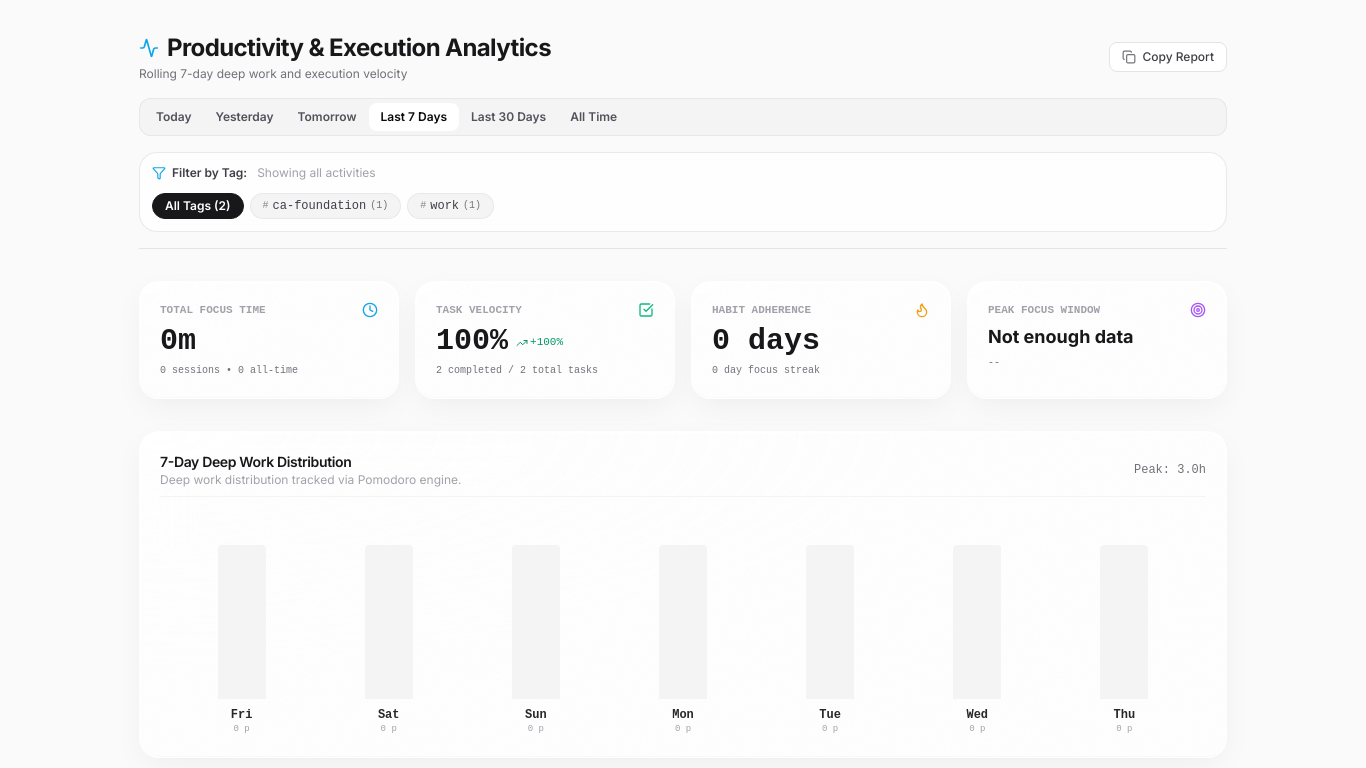
Analytics Time Horizon & Tag Filtering Engine › filters activities when clicking tag filter buttons and clears filter
Expected: the text "Filter by Tag:" is shown, [172,165,247,181]
Note: Click to filter by #ca-foundation
Click the button "# ca-foundation (1)" at (325, 206), box [250,193,401,219]
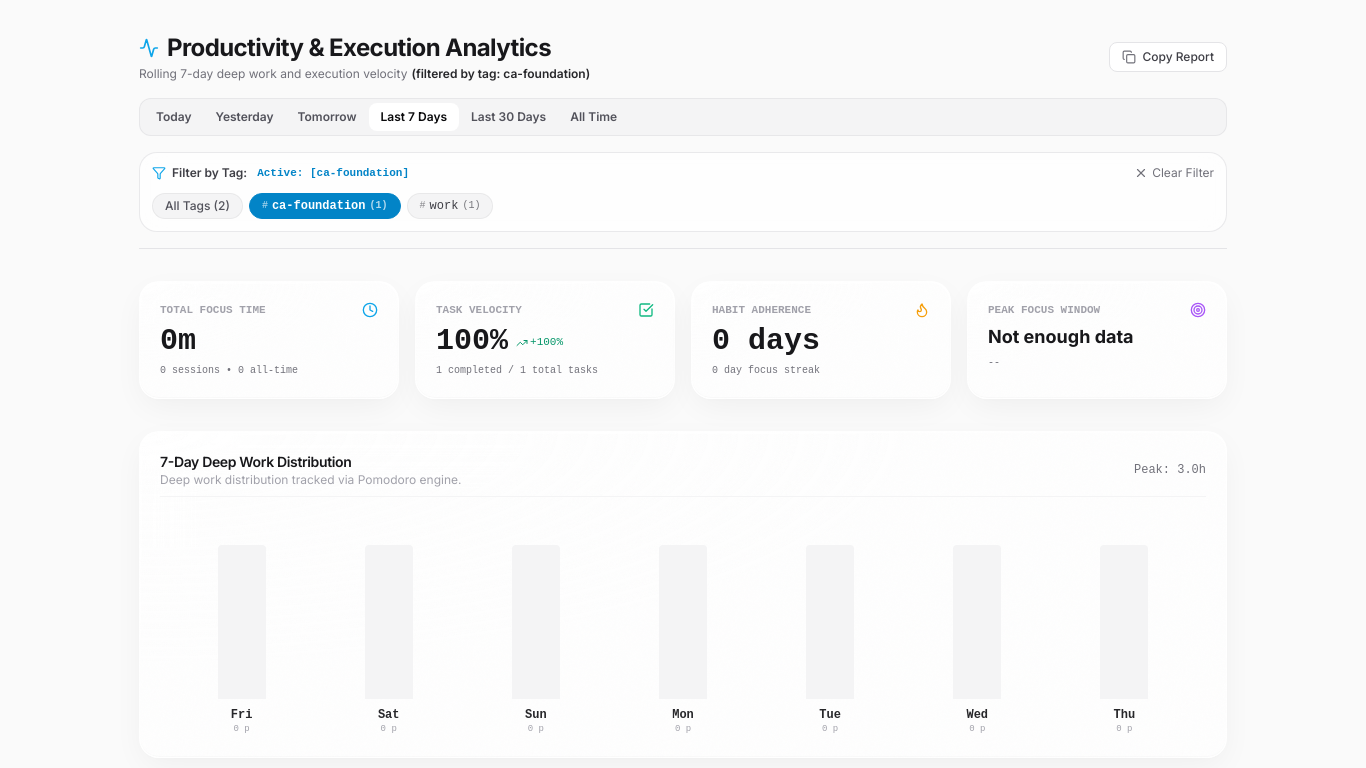
Now the text "Active: [ca-foundation]" is shown, box [257,165,409,181]
Now the text "Clear Filter" is shown, box [1152,165,1214,181]
Note: Click Clear Filter
Click the button "Clear Filter" at (1174, 173), box [1134,165,1214,181]
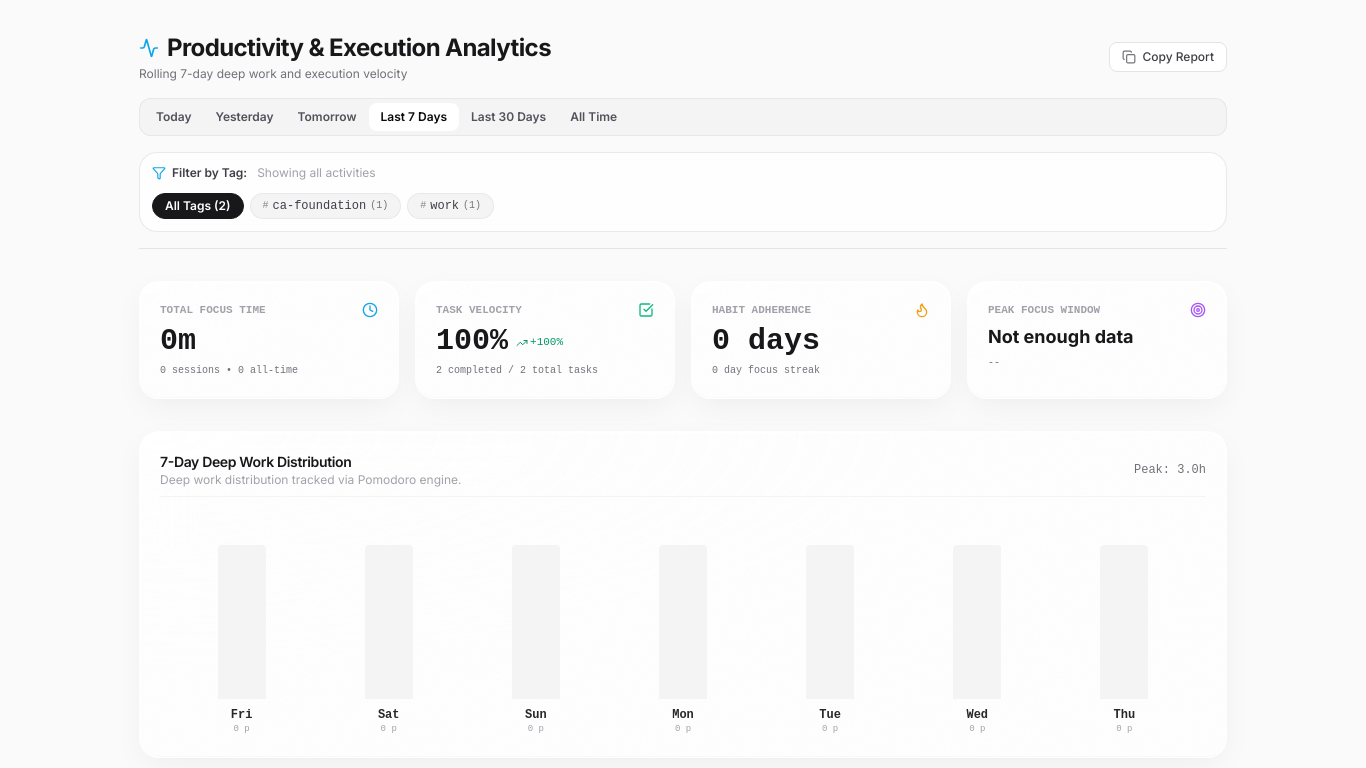
Now the text "Showing all activities" is shown, box [257,165,376,181]
